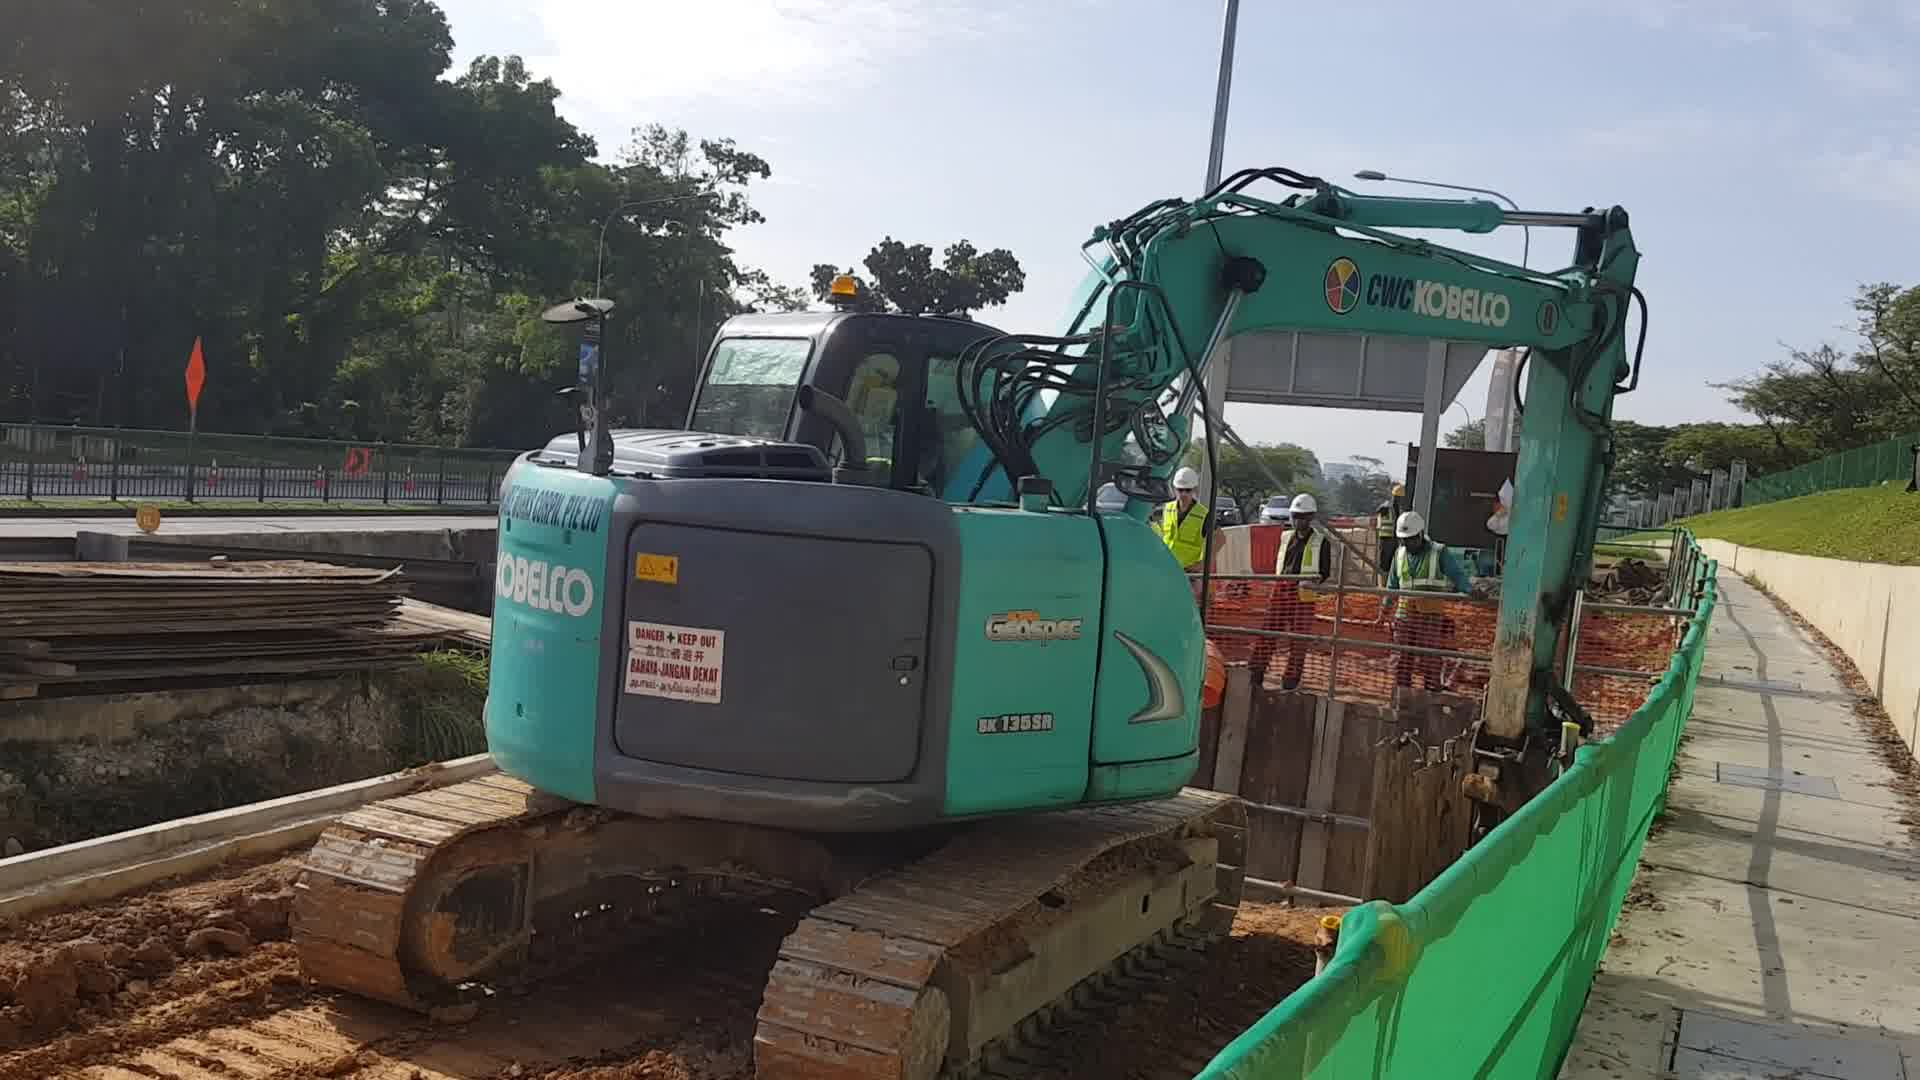cabin: (479, 272, 1222, 812)
forearm: (1482, 220, 1631, 720)
upperarm: (1006, 218, 1604, 512)
wheelbase: (287, 769, 1259, 1080)
